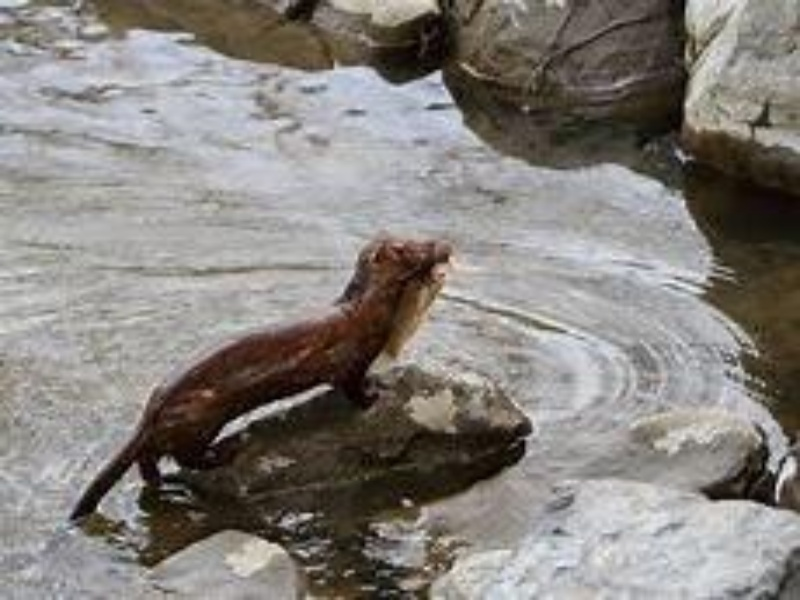minkish: (68, 230, 454, 526)
